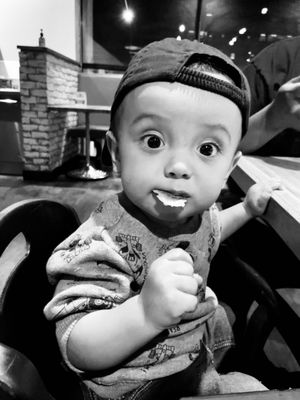pizza: (13, 37, 294, 400)
